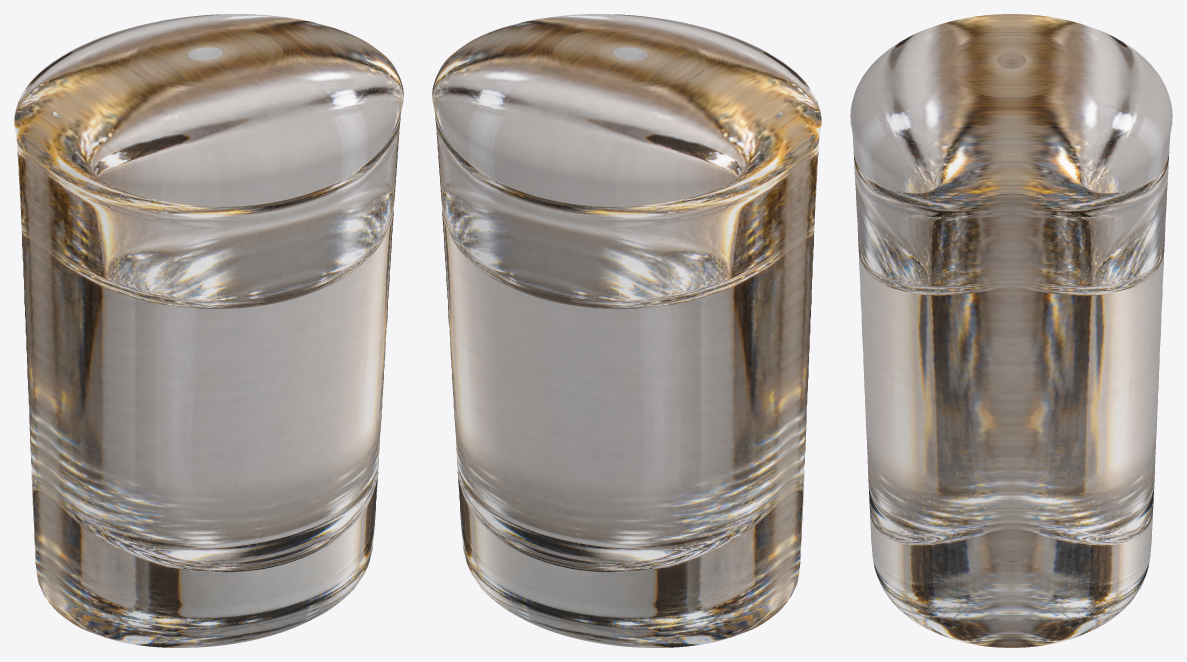
Rendered from destilado.glb.
3 renders of one model, left to right at view 1: azimuth 30°, elevation 25°; view 2: azimuth 150°, elevation 25°; view 3: azimuth 270°, elevation 25°, orthographic. The views are drawn at different scales.
Parts seen in each view (by area): view 1: destilado; view 2: destilado; view 3: destilado.
Boxes of the visible parts, x1,y1,x2,y2 form: destilado: (14, 14, 403, 647); destilado: (432, 14, 821, 647); destilado: (850, 14, 1172, 647).
Size of the model in its own units: 1.31 by 2 by 1.06.
Materials: 1 (1 with a texture image).
